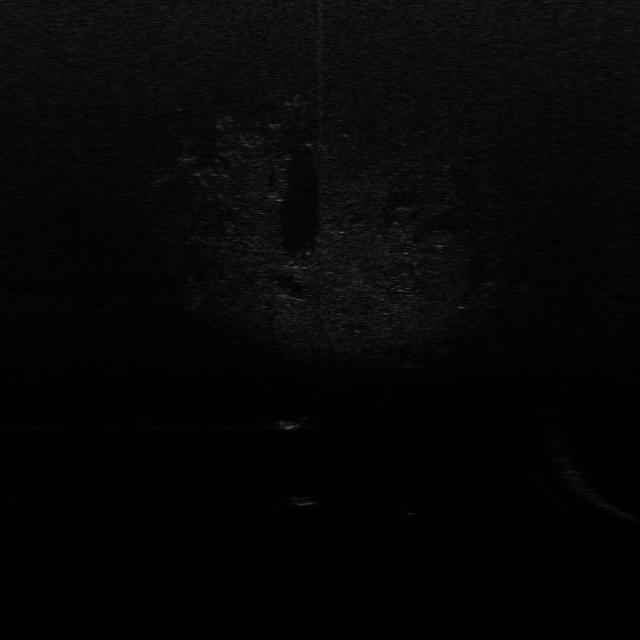cube: (288, 492, 318, 510)
square cage: (273, 412, 311, 432)
